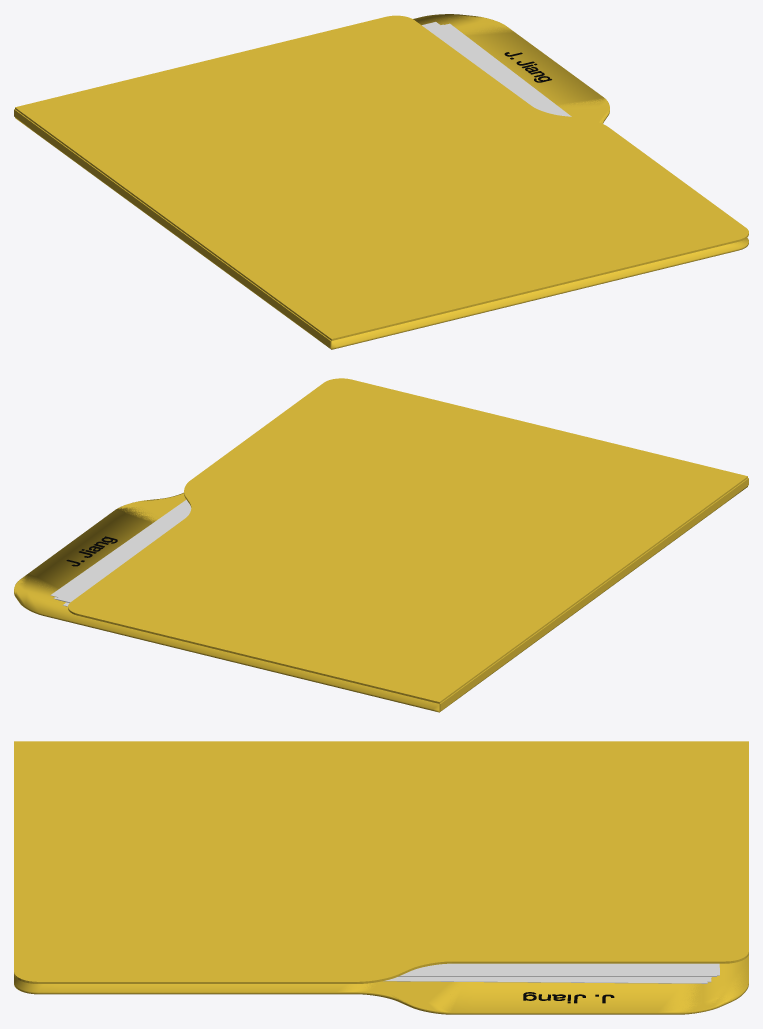
File: portfolio.glb
The picture shows the model from 3 angles, top to bottom: view 1: azimuth 30°, elevation 25°; view 2: azimuth 150°, elevation 25°; view 3: azimuth 270°, elevation 25°; orthographic projection. The views are drawn at different scales.
Visible parts, largest first — view 1: cover, Portfolio, hinge, Whitepaper, backpaper; view 2: cover, Portfolio, hinge, Whitepaper, backpaper; view 3: cover, Portfolio, Whitepaper, backpaper.
Part boxes in pixels (x1=…): cover: x1=15, y1=15, x2=748, y2=340; Portfolio: x1=15, y1=14, x2=748, y2=349; hinge: x1=14, y1=109, x2=331, y2=347; Whitepaper: x1=422, y1=22, x2=564, y2=115; backpaper: x1=441, y1=23, x2=571, y2=116; cover: x1=68, y1=378, x2=747, y2=703; Portfolio: x1=14, y1=486, x2=747, y2=712; hinge: x1=439, y1=478, x2=748, y2=710; Whitepaper: x1=56, y1=502, x2=191, y2=602; backpaper: x1=50, y1=499, x2=188, y2=606; cover: x1=14, y1=741, x2=748, y2=983; Portfolio: x1=14, y1=954, x2=748, y2=1014; Whitepaper: x1=398, y1=963, x2=716, y2=976; backpaper: x1=383, y1=963, x2=719, y2=983.
Bounding box in the file's own units: 25.68 × 0.57 × 30.5.
